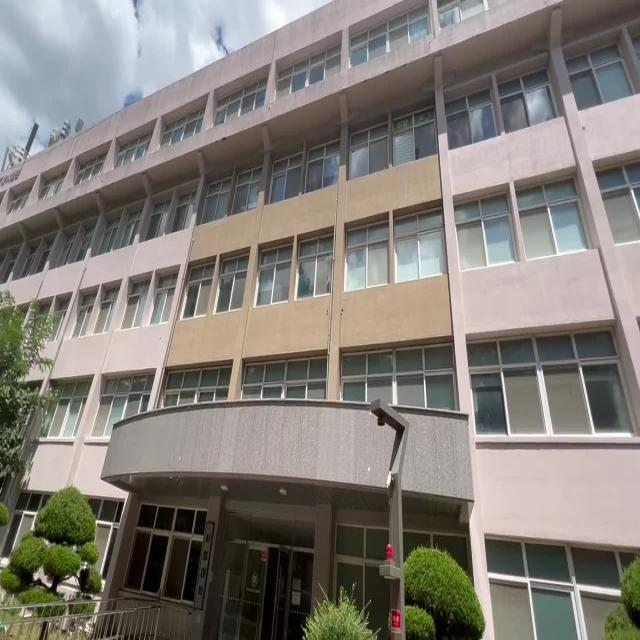building: (56, 26, 640, 527)
